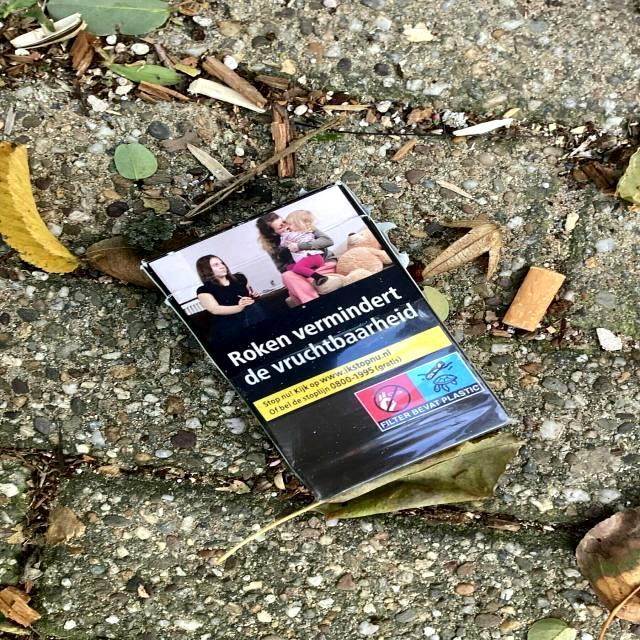Paper: (133, 176, 519, 509)
